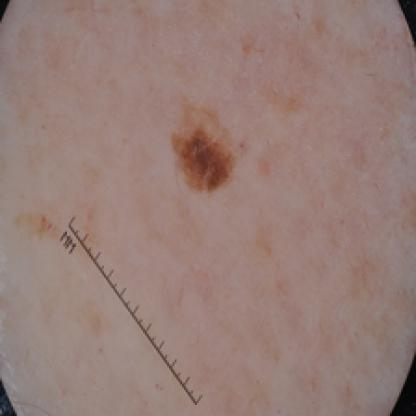malignant: (167, 109, 251, 197)
